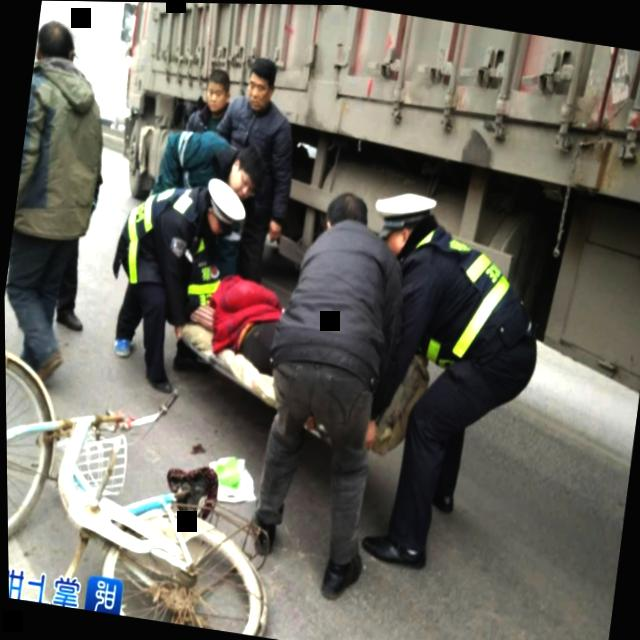Fall-Detected: (159, 259, 308, 408)
